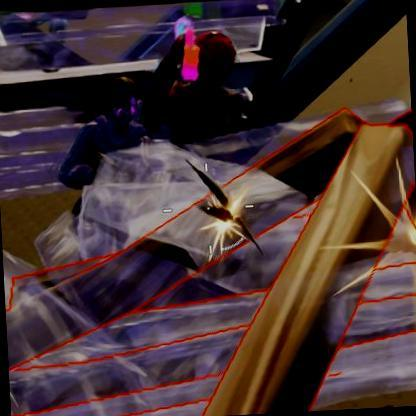person: (136, 27, 255, 147), (84, 90, 136, 202)
